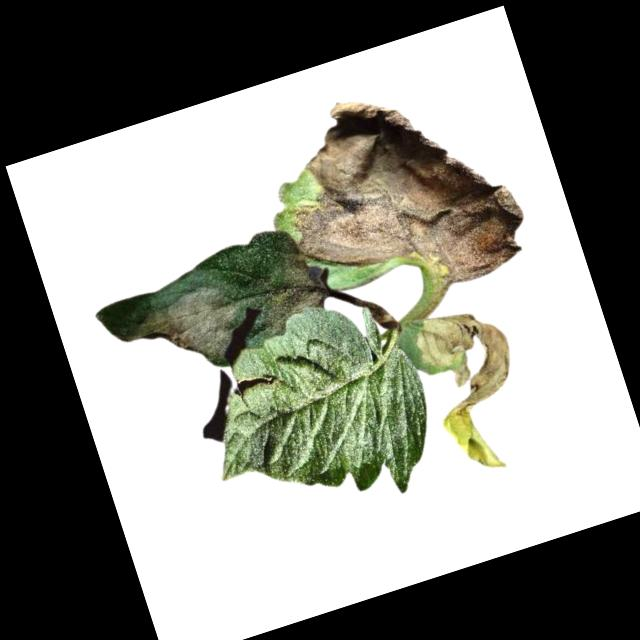Late_blight: (259, 58, 538, 328), (411, 295, 547, 481), (122, 276, 251, 383), (242, 229, 341, 336)
healthy: (179, 281, 451, 545)
